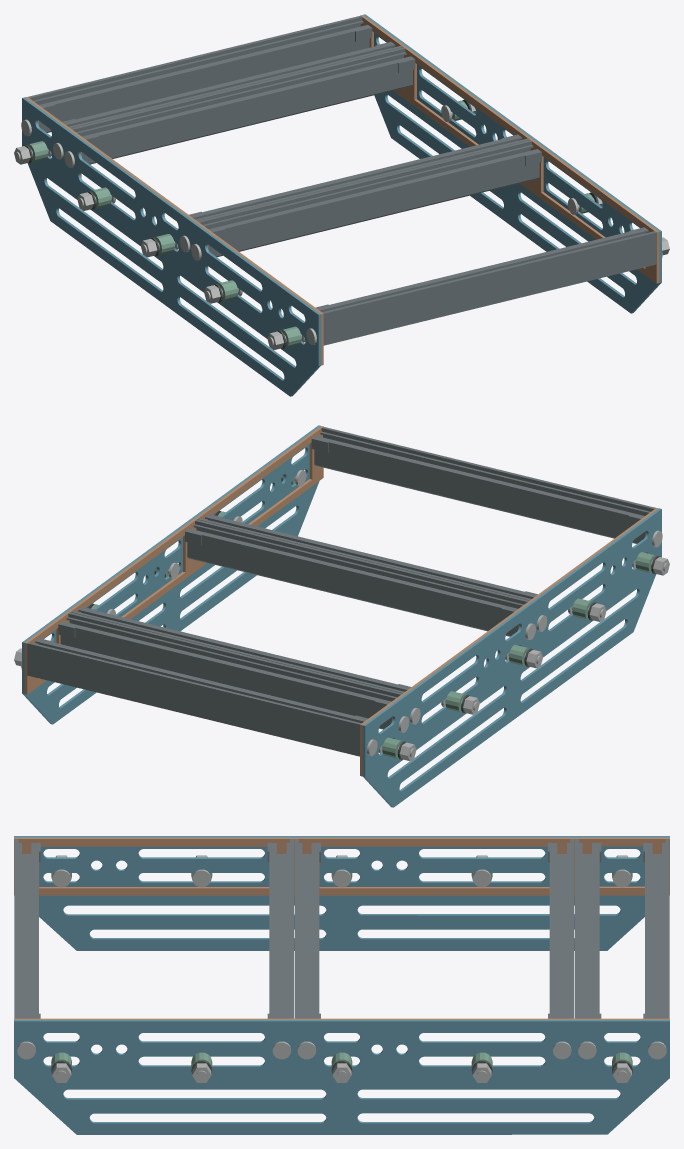
Rendered from C-frame-TW-01.glb.
3 renders of one model, top to bottom at view 1: azimuth 30°, elevation 25°; view 2: azimuth 150°, elevation 25°; view 3: azimuth 270°, elevation 25°, orthographic. The views are drawn at different scales.
Parts seen in each view (by area): view 1: base; view 2: base; view 3: base.
Boxes of the visible parts, x1,y1,x2,y2 form: base: (14, 14, 669, 396); base: (14, 425, 669, 807); base: (14, 836, 669, 1134).
Size of the model in its own units: 0.243 by 0.06 by 0.3148.
